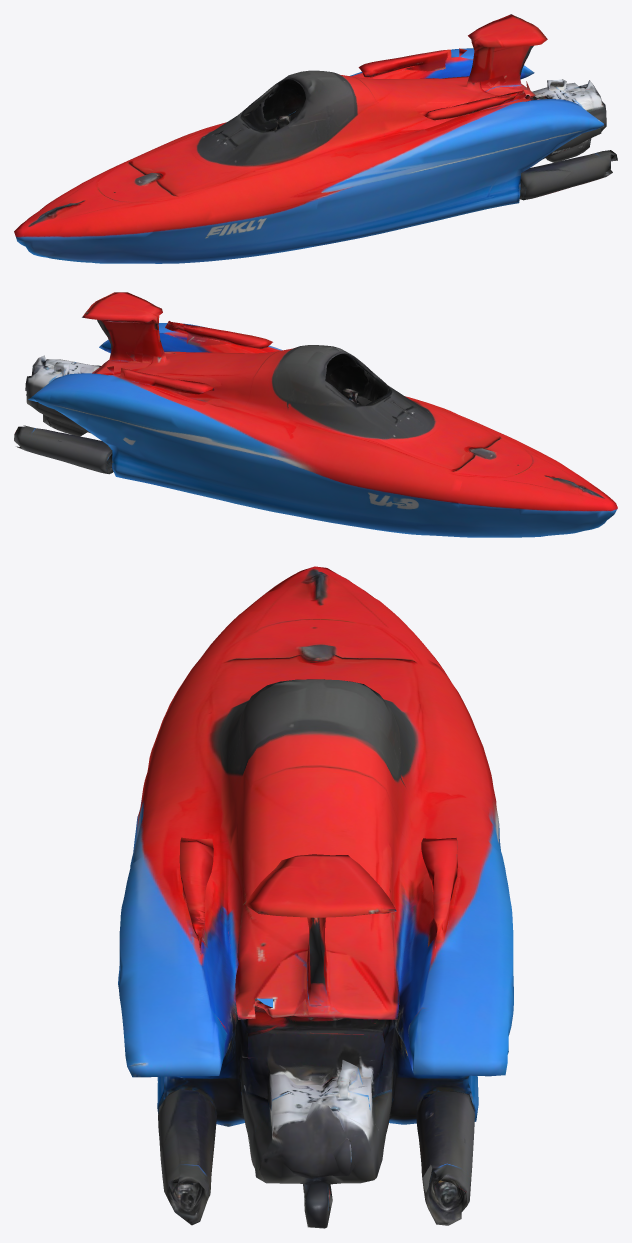
3 views of the same model, one above another, from view 1: azimuth 30°, elevation 25°; view 2: azimuth 150°, elevation 25°; view 3: azimuth 270°, elevation 25° (orthographic). The views are drawn at different scales.
Bounding box in the file's own units: 2 × 0.4929 × 0.5867.
1 material, 1 textured.
